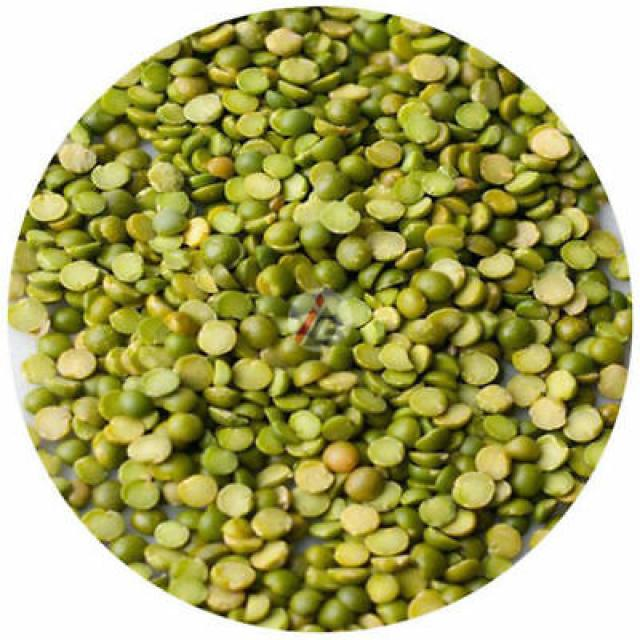pea: (2, 6, 635, 631)
